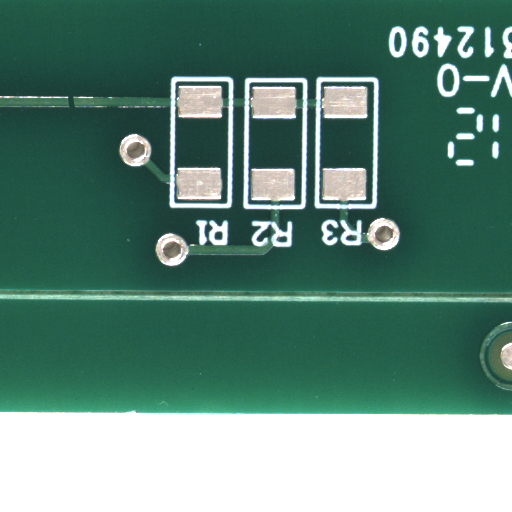Open_circuit: (71, 102, 81, 117)
